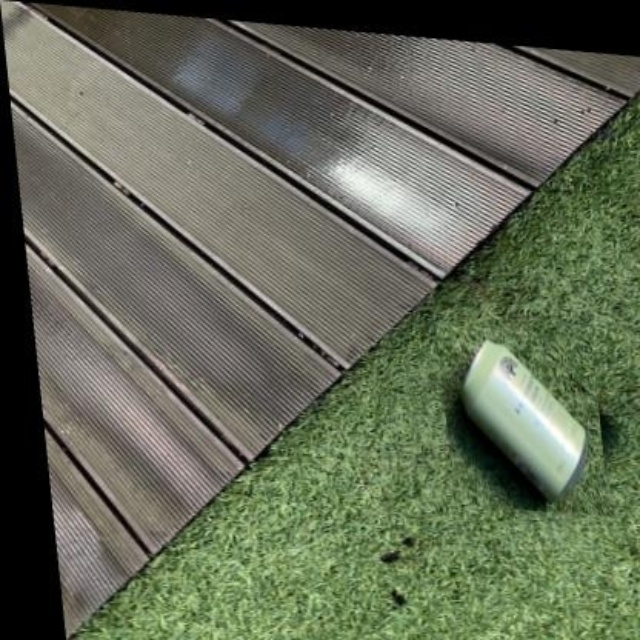trash: (463, 342, 585, 498)
